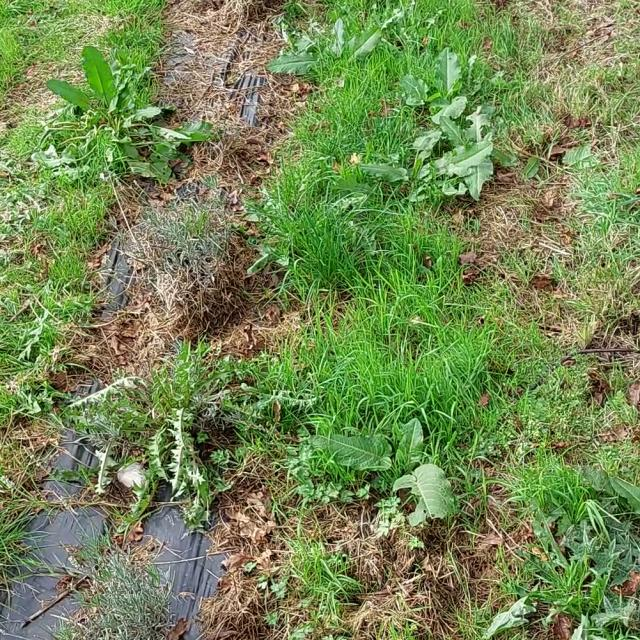organic waste: (8, 39, 210, 178), (300, 388, 484, 535), (346, 124, 544, 236), (241, 10, 405, 116), (336, 56, 518, 146)
